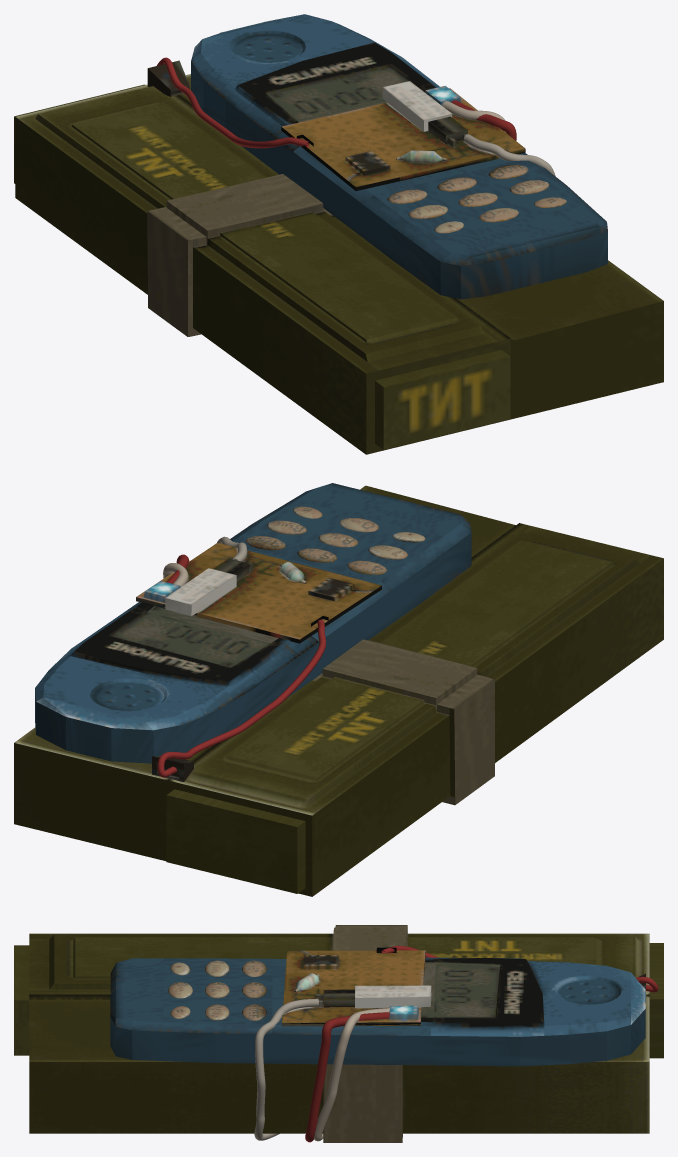
The model's file is PsxC4Collection.fbx.
3 renders of one model, top to bottom at view 1: azimuth 30°, elevation 25°; view 2: azimuth 150°, elevation 25°; view 3: azimuth 270°, elevation 25°, orthographic. The views are drawn at different scales.
Parts seen in each view (by area): view 1: BézierCurve.003; view 2: BézierCurve.003; view 3: BézierCurve.003.
Part boxes in pixels (x1=…): BézierCurve.003: x1=14, y1=14, x2=663, y2=454; BézierCurve.003: x1=14, y1=483, x2=663, y2=896; BézierCurve.003: x1=14, y1=925, x2=663, y2=1142.
Size of the model in its own units: 222 by 96.72 by 428.
11 materials, 6 textured.
